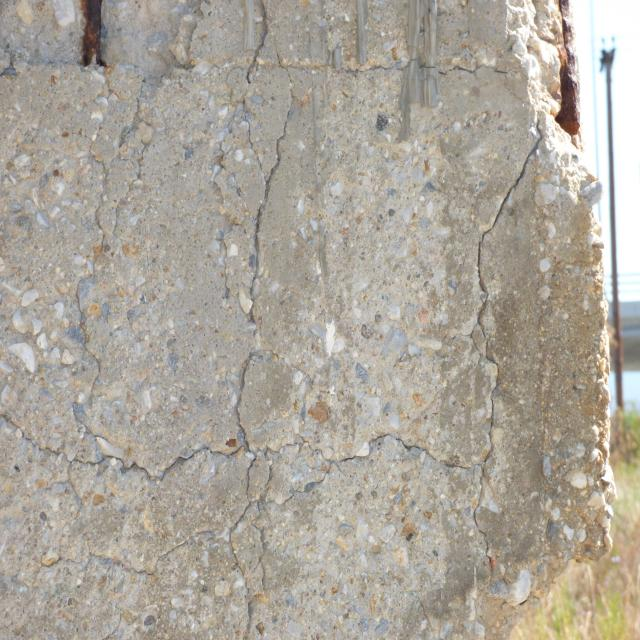corrosion: (542, 5, 598, 147), (67, 0, 125, 80)
